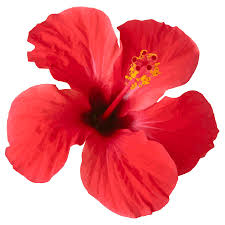hybiscus: (6, 7, 220, 219)
